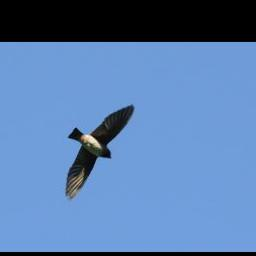Swallow: (63, 103, 132, 201)
